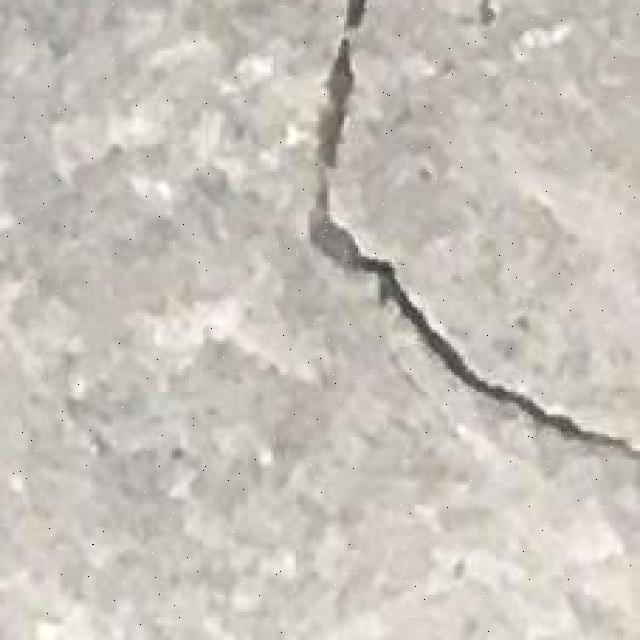crack: (305, 2, 640, 499)
